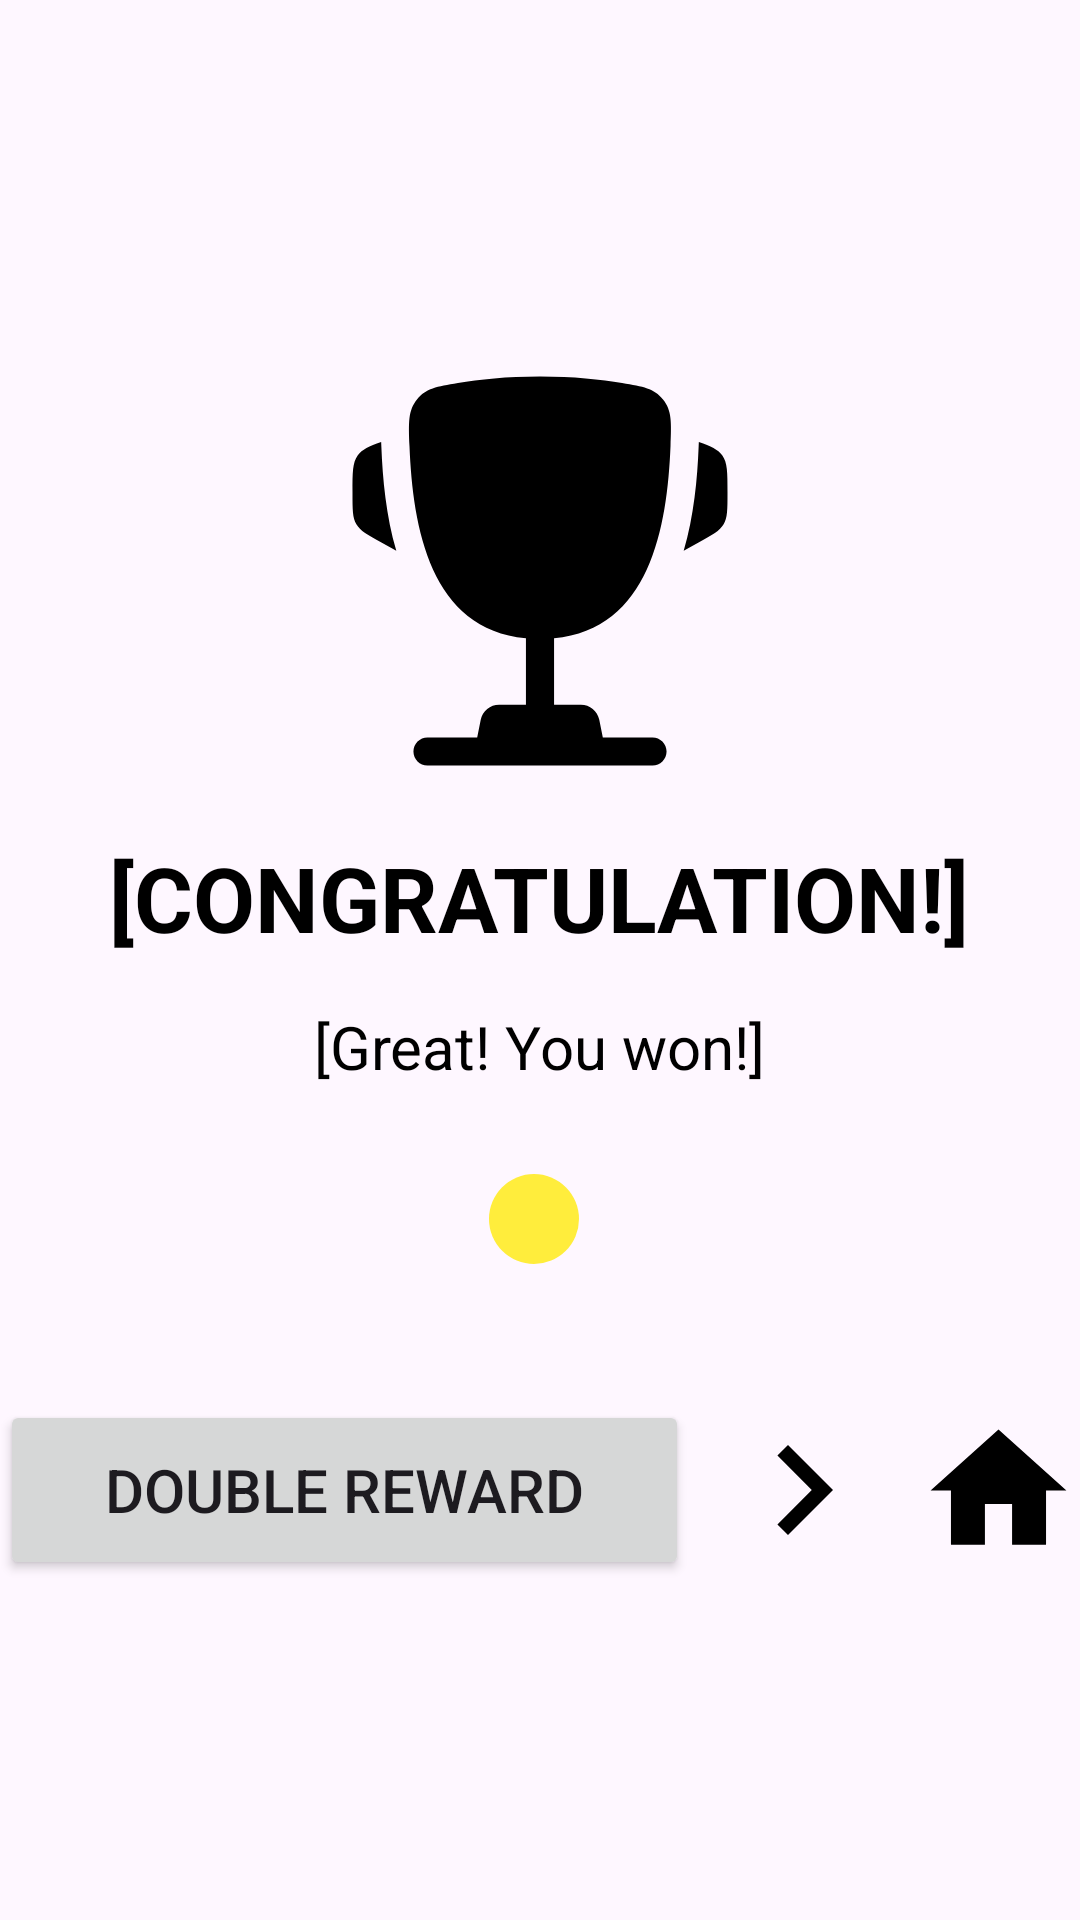

Icon click points for this 1080 × 1920 phone screenshot, format (x,y):
home: (998,1487)
navigate next: (805,1490)
